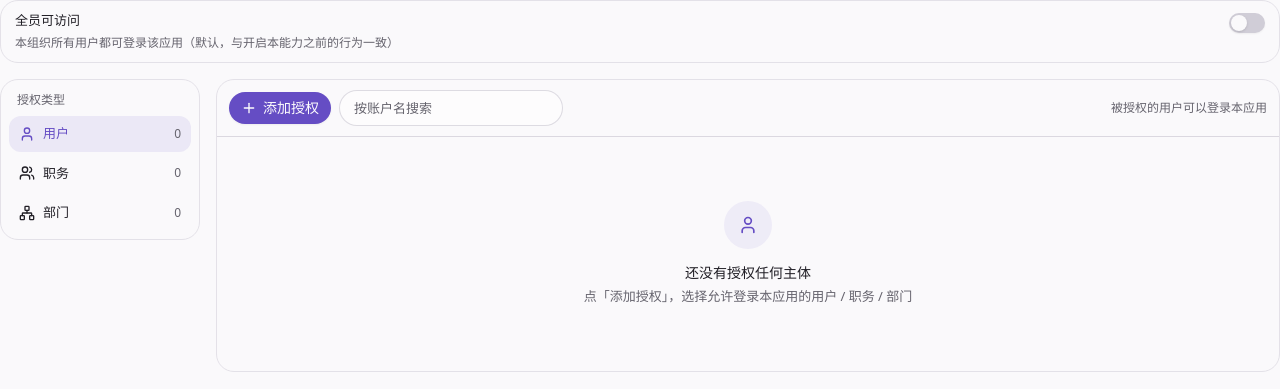
Test: ApplicationAccessEditor（授权类型 / 名单 左右布局） › 右侧面板展示覆盖语义文案（部门含子部门 / 职务含子组）
Check: the text "被授权的用户可以登录本应用" is shown, box [1111,100,1267,116]
Click the button "部门 0". click: (100, 213)
box: [9,195,191,230]
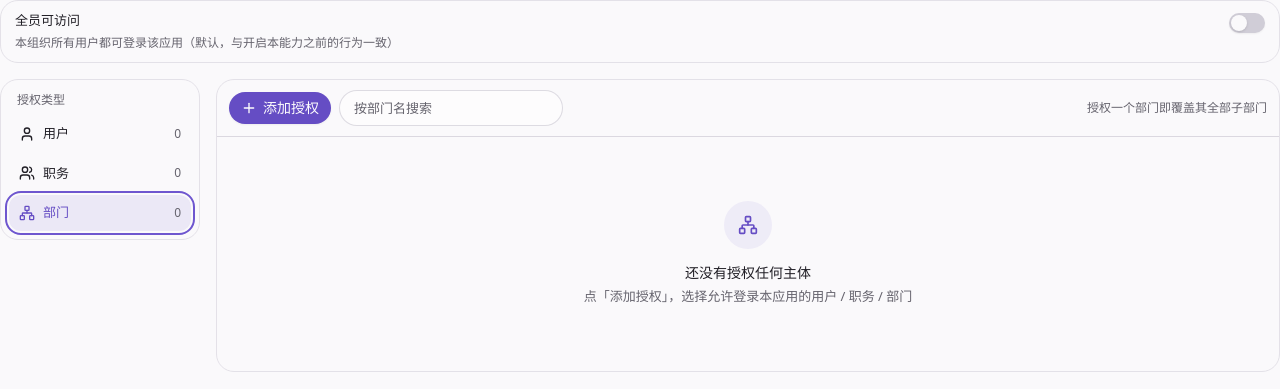
Check: the text "授权一个部门即覆盖其全部子部门" is shown, box [1087,100,1267,116]
Click the button "职务 0". click: (100, 173)
box: [9,156,191,191]
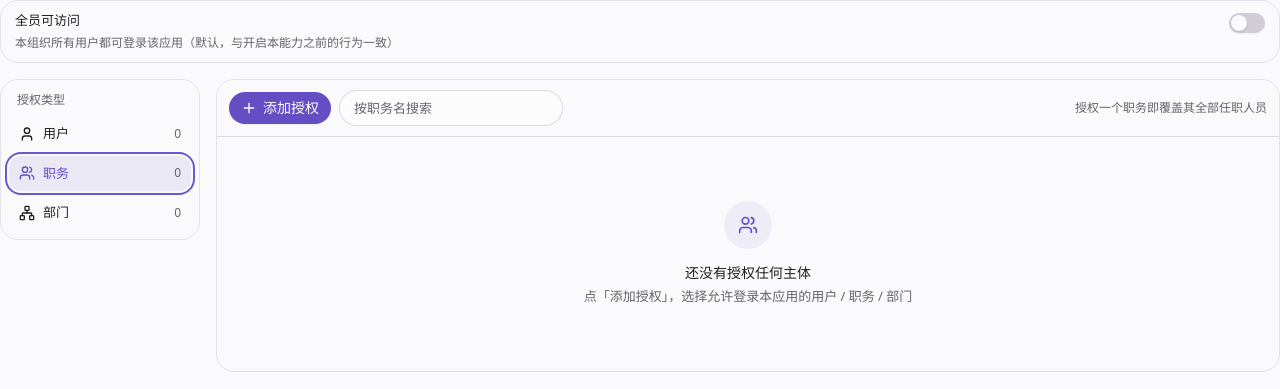
Check: the text "授权一个职务即覆盖其全部任职人员" is shown, box [1075,100,1267,116]
